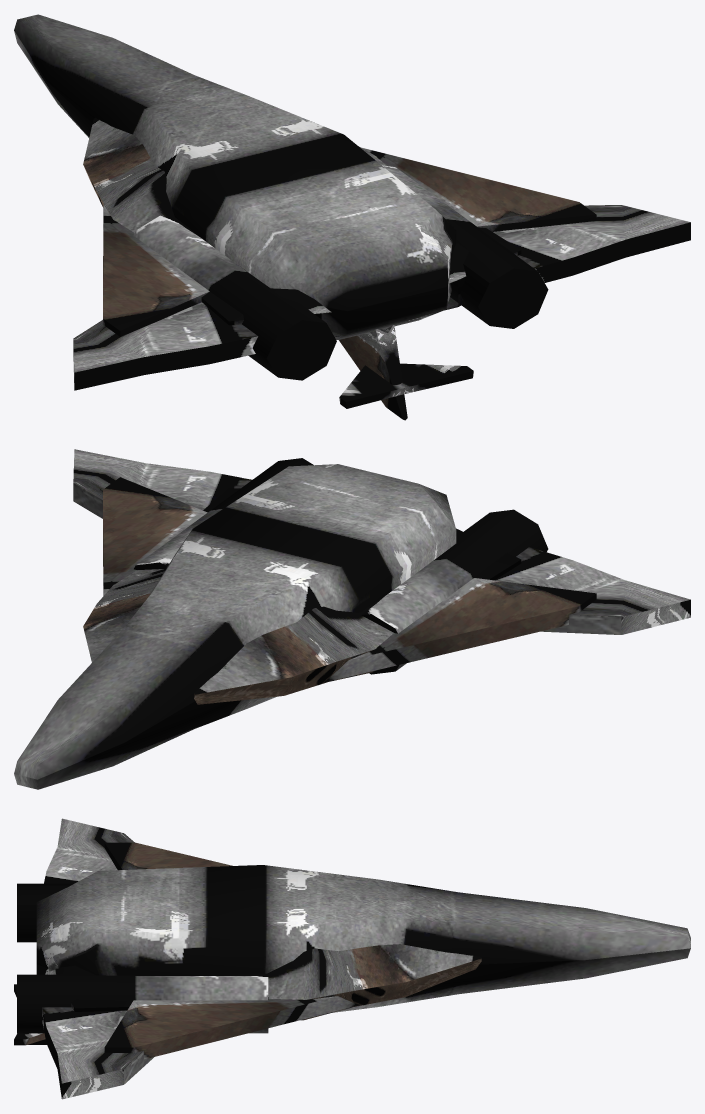
File: Triton.fbx
3 views of the same model, one above another, from view 1: azimuth 30°, elevation 25°; view 2: azimuth 150°, elevation 25°; view 3: azimuth 270°, elevation 25° (orthographic). The views are drawn at different scales.
Parts seen in each view (by area): view 1: Triton; view 2: Triton; view 3: Triton.
Boxes of the visible parts, <box> form: Triton: <box>14,14,690,420</box>; Triton: <box>14,449,690,789</box>; Triton: <box>14,818,690,1099</box>.
Bounding box in the file's own units: 140 × 36.25 × 151.
Materials: 1 (1 with a texture image).
